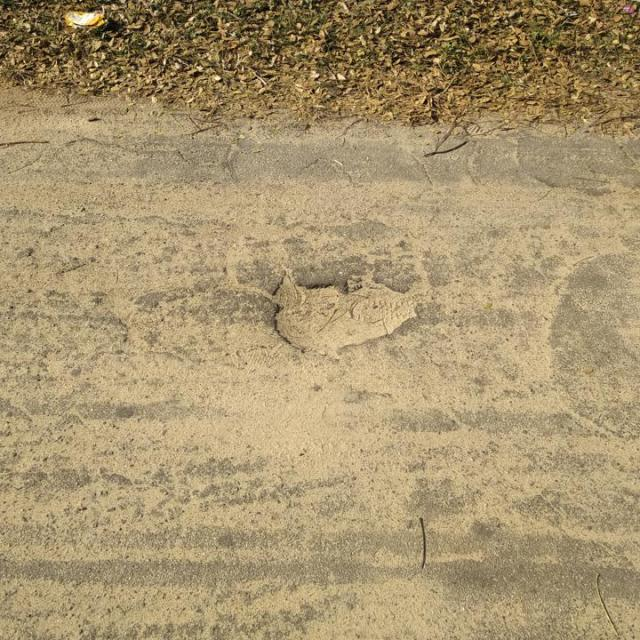pothole: (266, 265, 423, 352)
